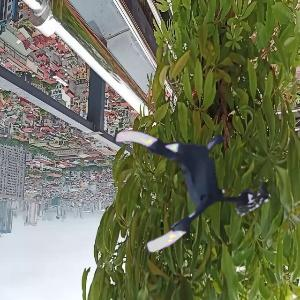drone: (112, 106, 250, 244)
